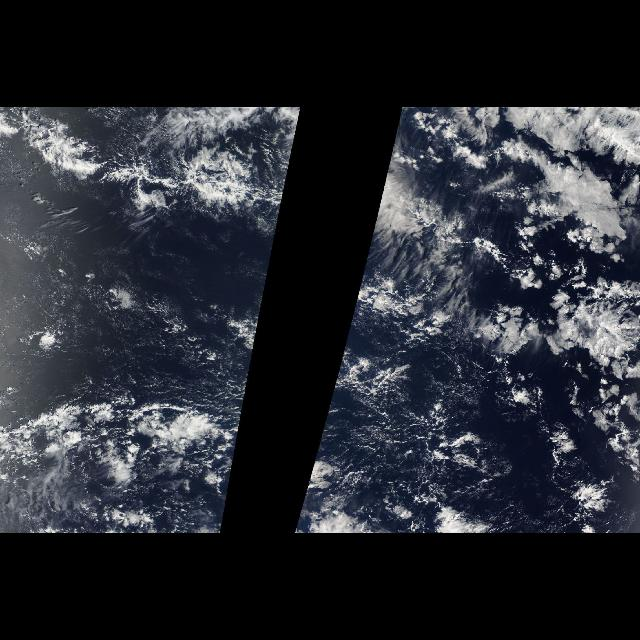Fish: (13, 112, 300, 380), (334, 113, 526, 380)
Gravel: (354, 374, 510, 510)
Sugar: (3, 204, 181, 386)
